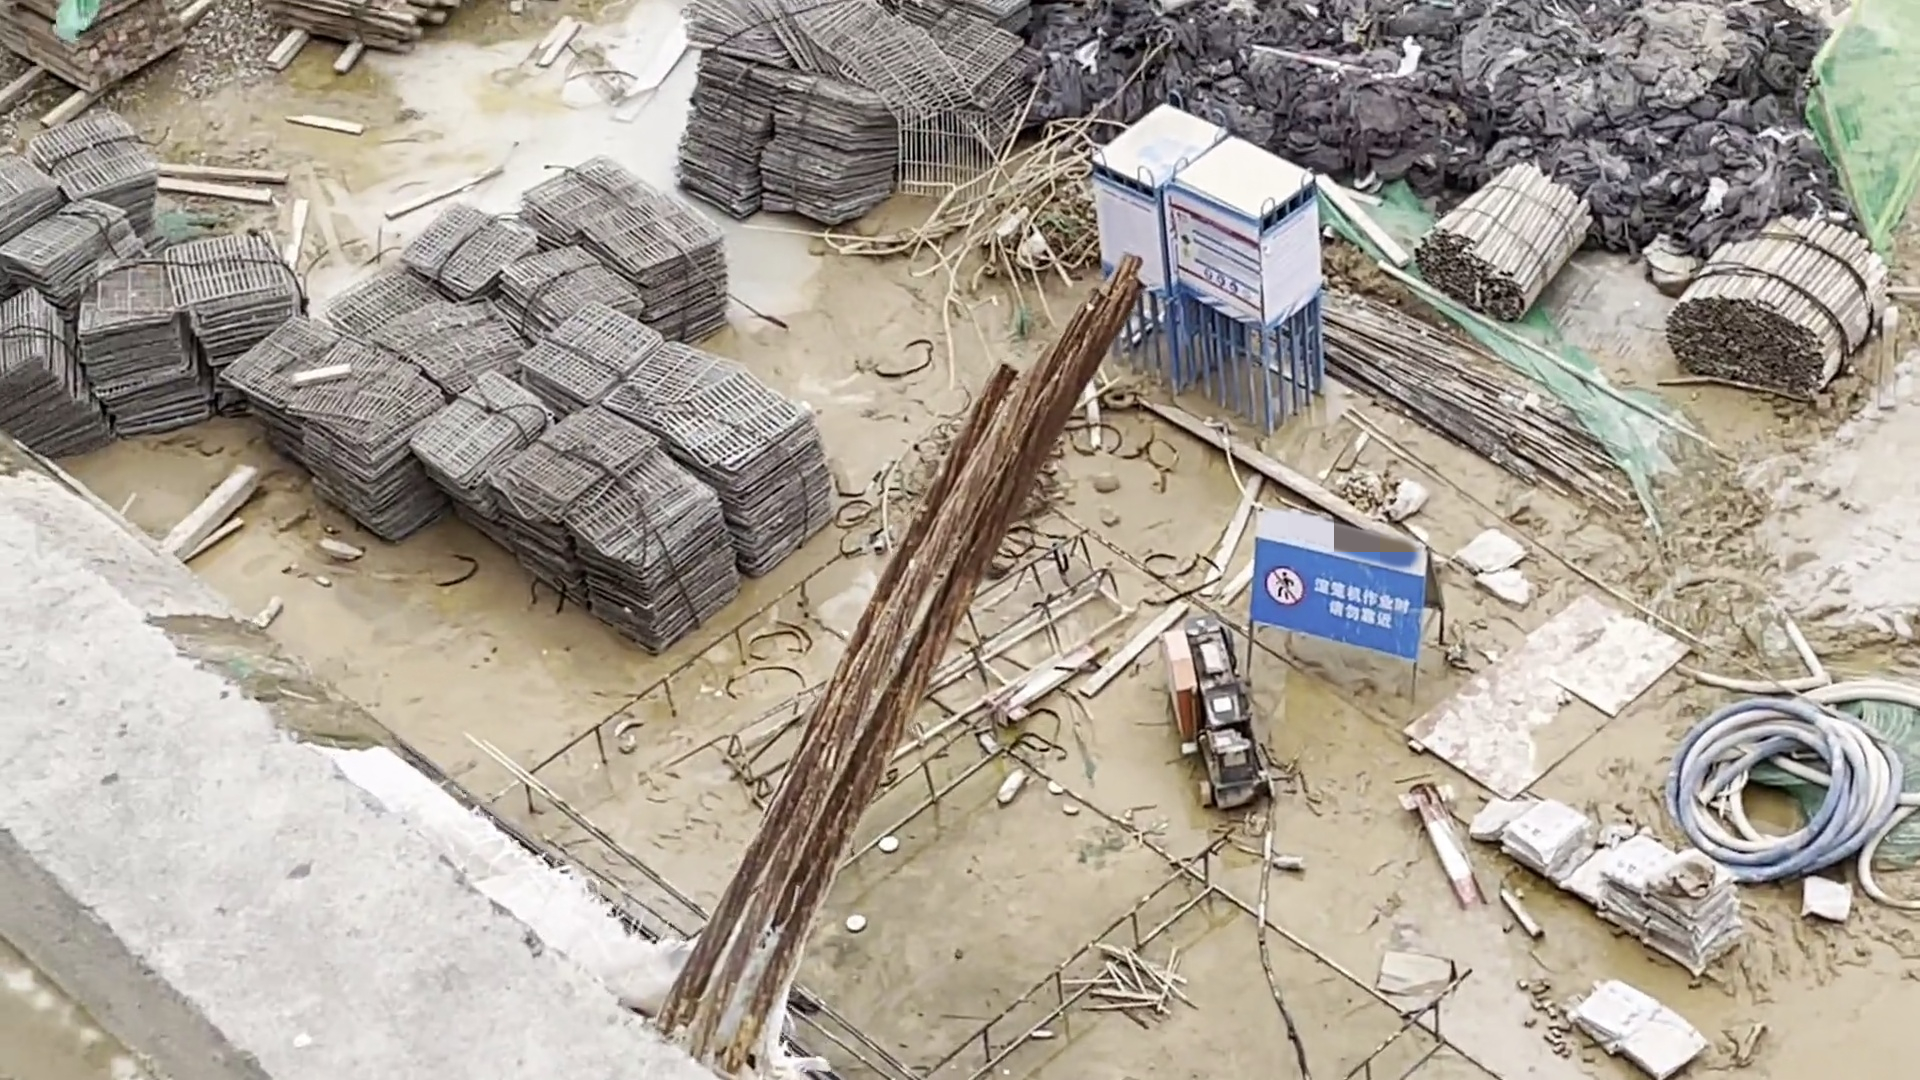slogan: (1255, 542, 1425, 649)
wood: (1675, 204, 1880, 409), (1412, 160, 1593, 313)
